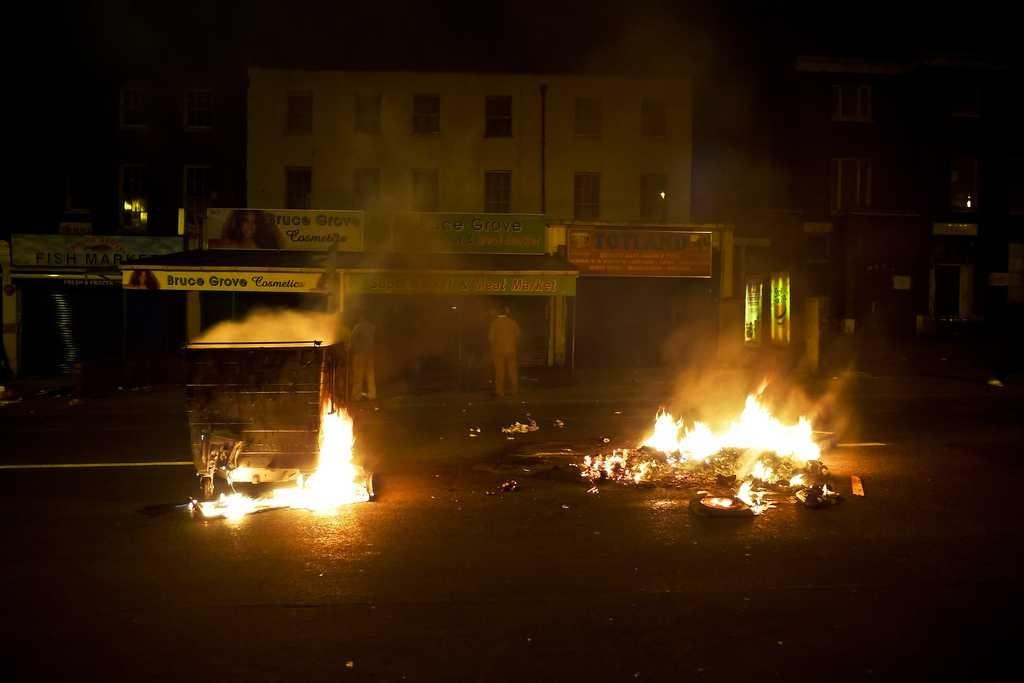fire: (650, 418, 790, 450), (323, 418, 352, 510)
smoke: (370, 255, 477, 397)
